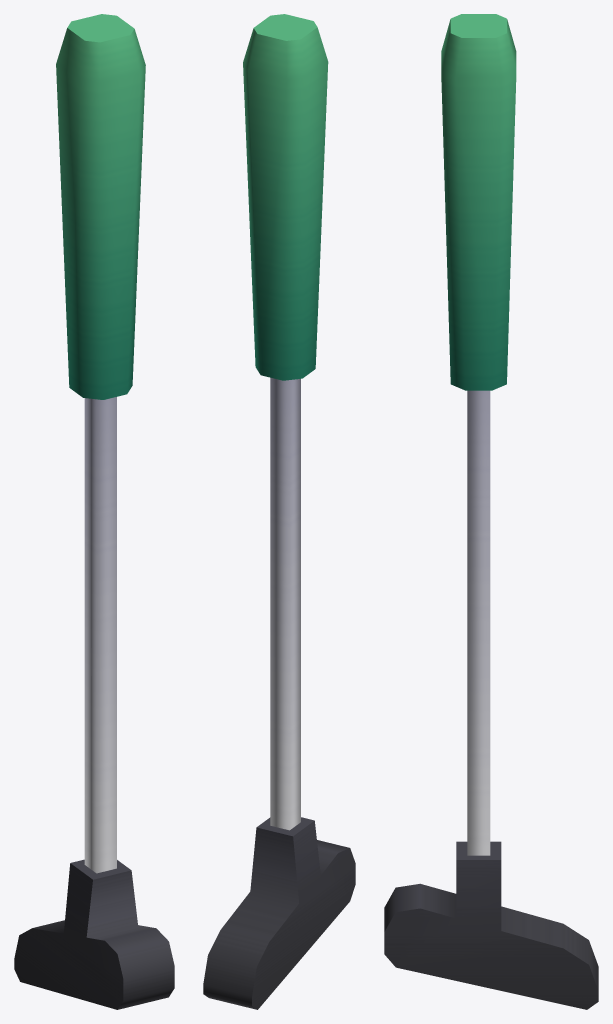
File: club-green.glb
The picture shows the model from 3 angles, left to right: view 1: azimuth 30°, elevation 25°; view 2: azimuth 150°, elevation 25°; view 3: azimuth 270°, elevation 25°; orthographic projection. The views are drawn at different scales.
Parts seen in each view (by area): view 1: club-green; view 2: club-green; view 3: club-green.
Part boxes in pixels (bbox=[...]): club-green: bbox=[14, 14, 174, 1009]; club-green: bbox=[203, 14, 355, 1009]; club-green: bbox=[384, 14, 598, 1009].
Size of the model in its own units: 0.0738 by 1.05 by 0.2102.
Materials: 1 (1 with a texture image).
